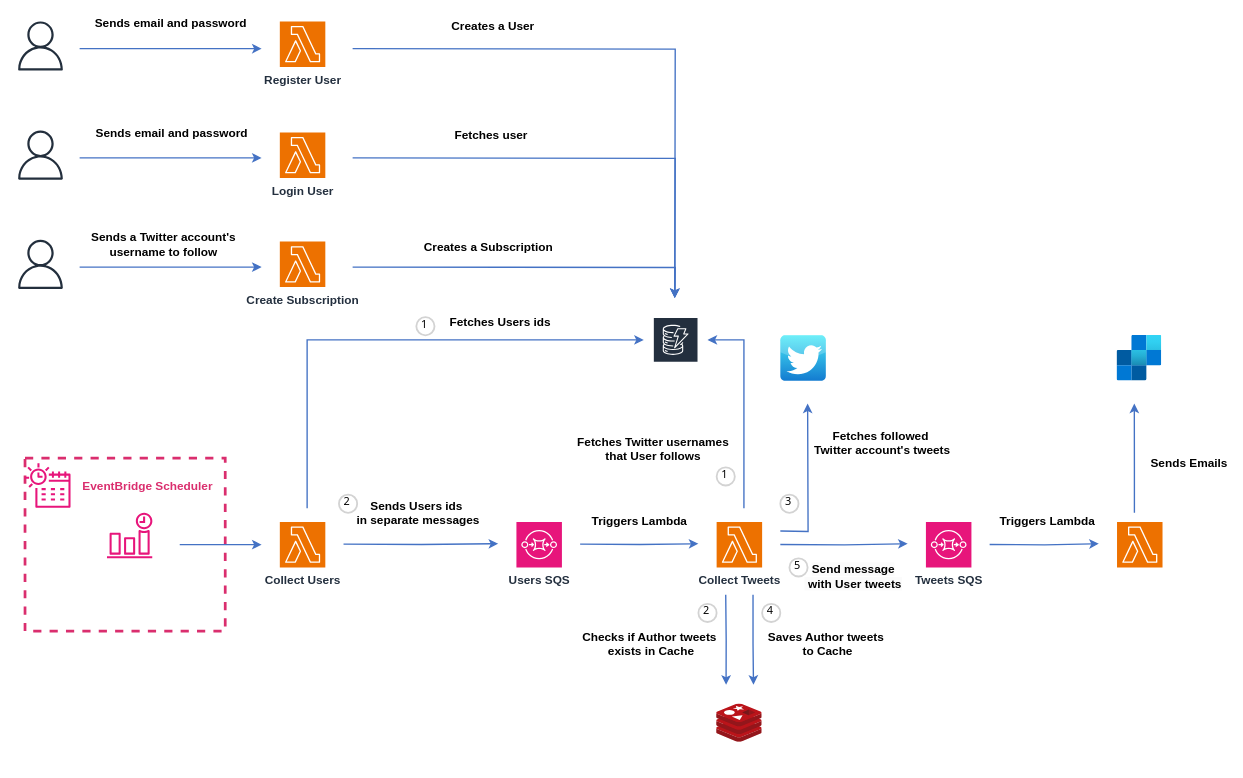
Some shapes in this 1243 by 778 pixel diagram are drawn without their labels. The shapes that lost their labels are listed below. From the top down, each one's centre as x and y in pixels, then its label:
(675,339): DynamoDB
(802,357): Twitter
(1139,357): SendGrid
(129,535): Event (once a day)
(1139,544): Send Tweets Emails
(739,722): Redis
